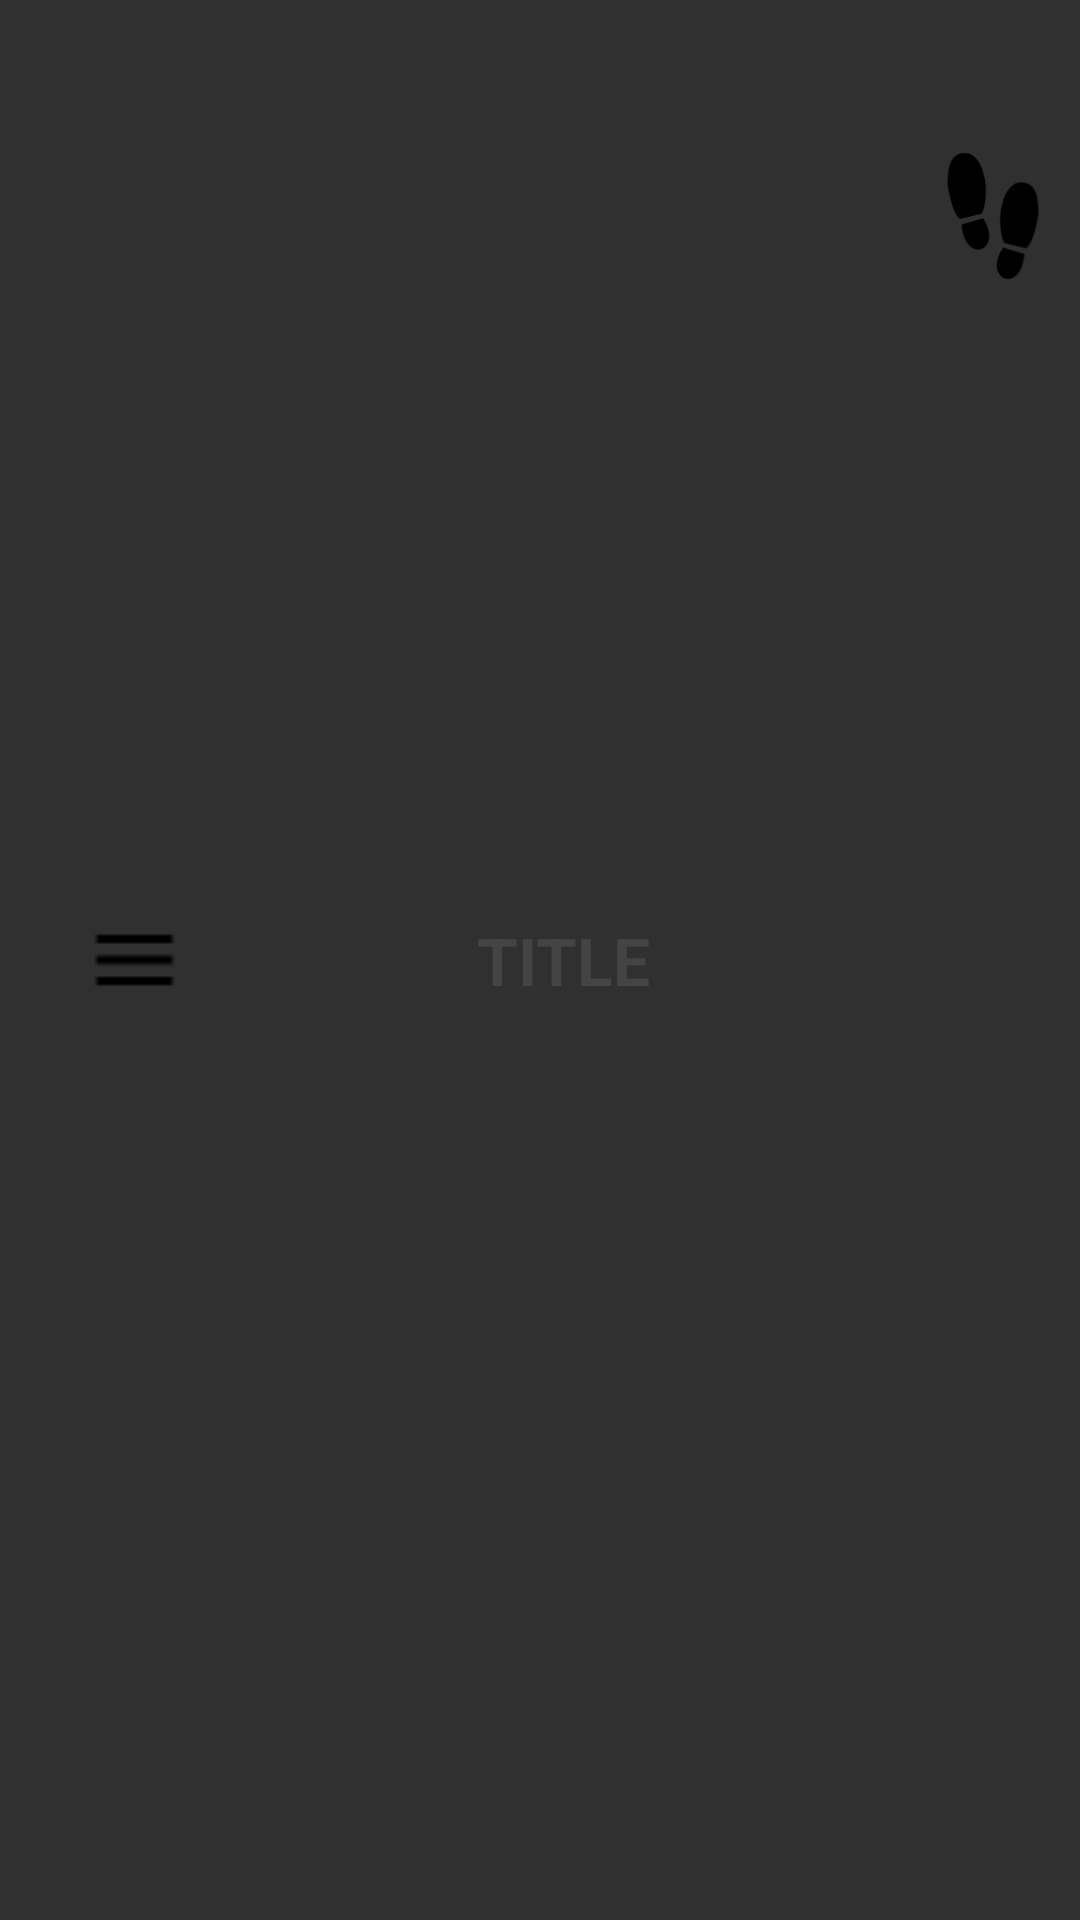

Screen size 1080w x 1920h. Icon name, then its box in pixels as (x1, y1, x2, y2):
drawer: (97, 935, 172, 985)
foot: (948, 153, 1038, 279)
